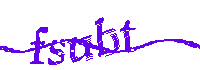b: (94, 17, 120, 58)
f: (29, 26, 47, 65)
s: (48, 37, 66, 67)
t: (121, 19, 137, 53)
u: (68, 35, 95, 64)
